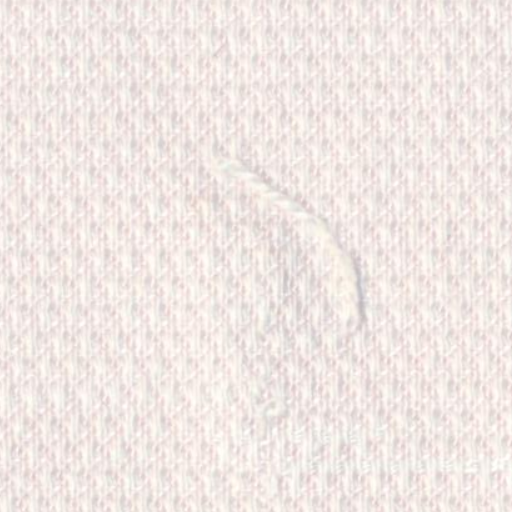DuanSha: (208, 118, 378, 360)
